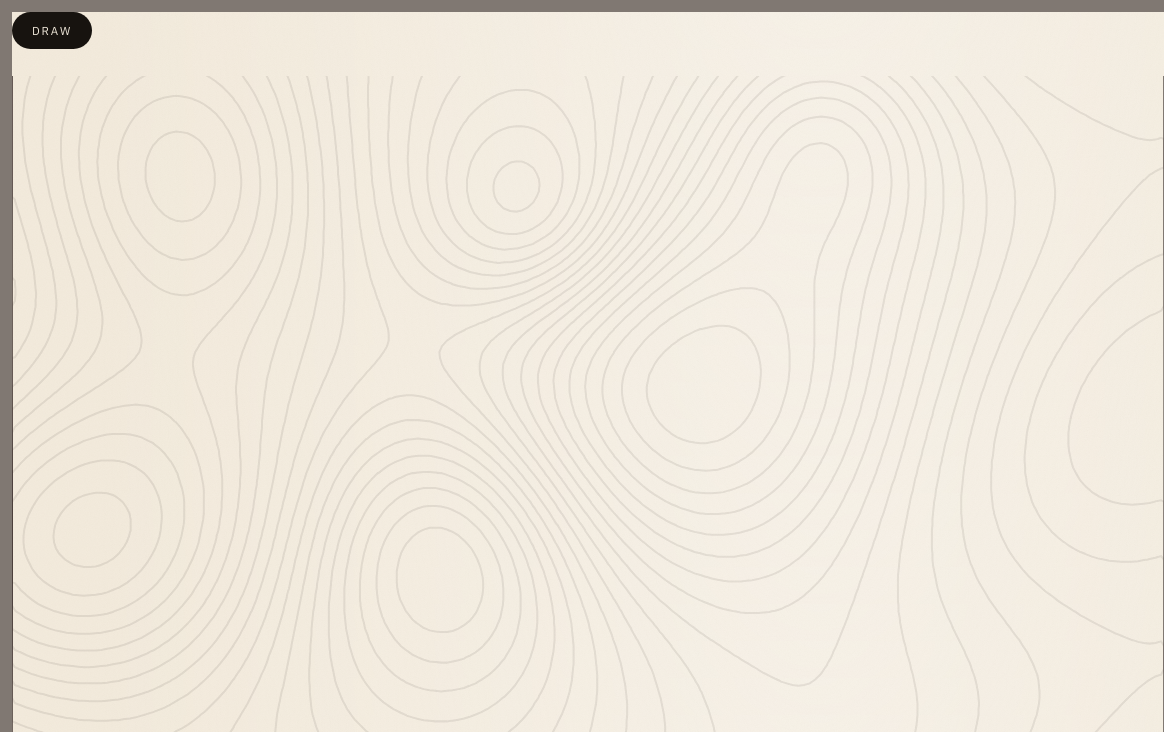
Scenario: TxButton state machine (plan §6.2) › simulation revert shows the reason chip and never opens the wallet
Later steps or results of the test are not shown.
What coordinates should you click on to do the following:
click the button "Draw"
I would click on:
 (52, 31)
Its box is [12, 12, 92, 49].
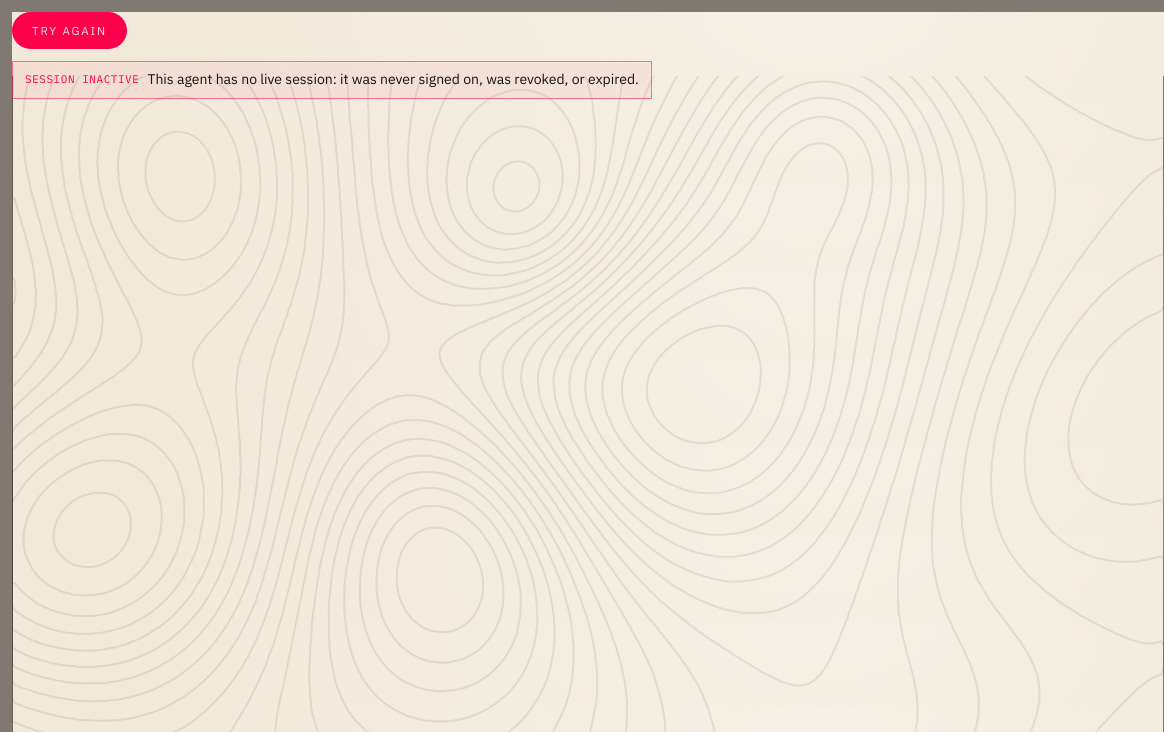
expect the text "no live session" is shown: met, box [147, 70, 639, 88]
expect the text "SESSION INACTIVE" is shown: met, box [25, 72, 139, 87]
